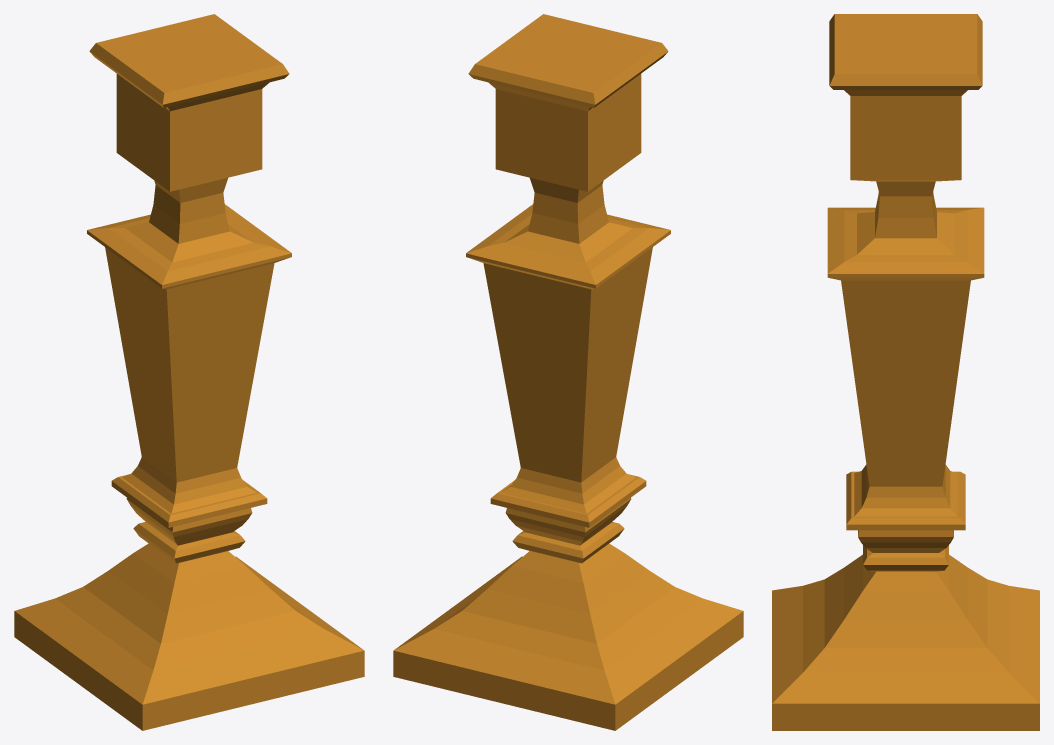
File: Prop_Biblioteca_candelabro.fbx
3 views of the same model, side by side, from view 1: azimuth 30°, elevation 25°; view 2: azimuth 150°, elevation 25°; view 3: azimuth 270°, elevation 25° (orthographic). The views are drawn at different scales.
Parts seen in each view (by area): view 1: Candelabro; view 2: Candelabro; view 3: Candelabro.
Boxes of the visible parts, bbox=[...] form: Candelabro: bbox=[14, 14, 364, 730]; Candelabro: bbox=[393, 14, 743, 730]; Candelabro: bbox=[772, 14, 1039, 730].
Bounding box in the file's own units: 130 × 337 × 130.
